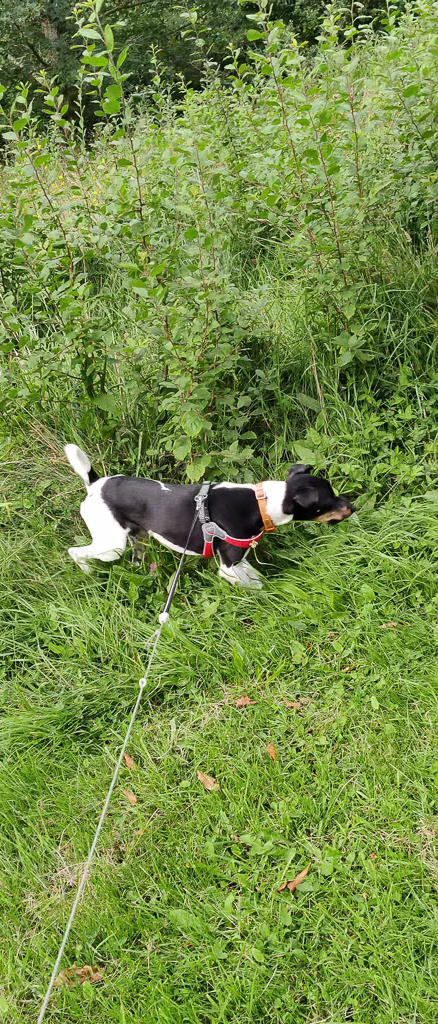Dog: (53, 433, 368, 597)
